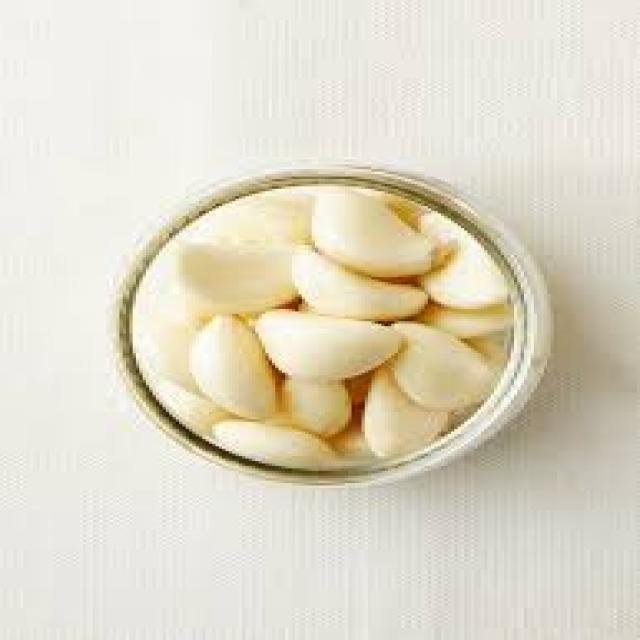Garlic bulb: (189, 251, 494, 457)
